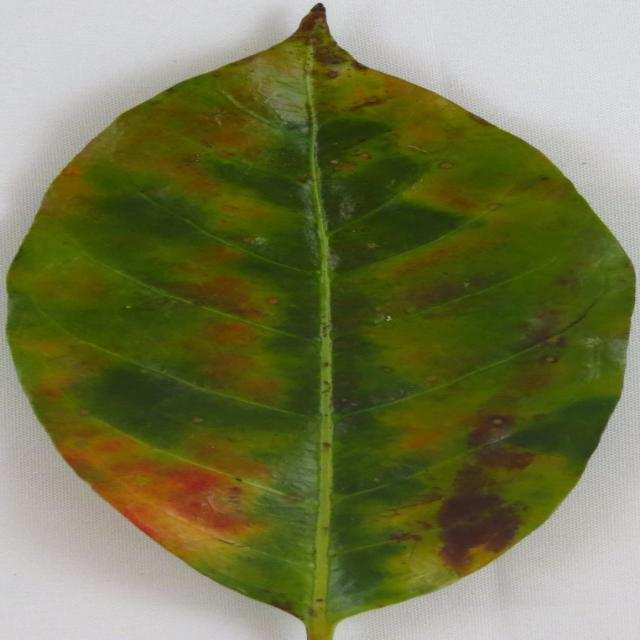DeficienciaNutricional-Fosforo: (7, 5, 634, 640)
